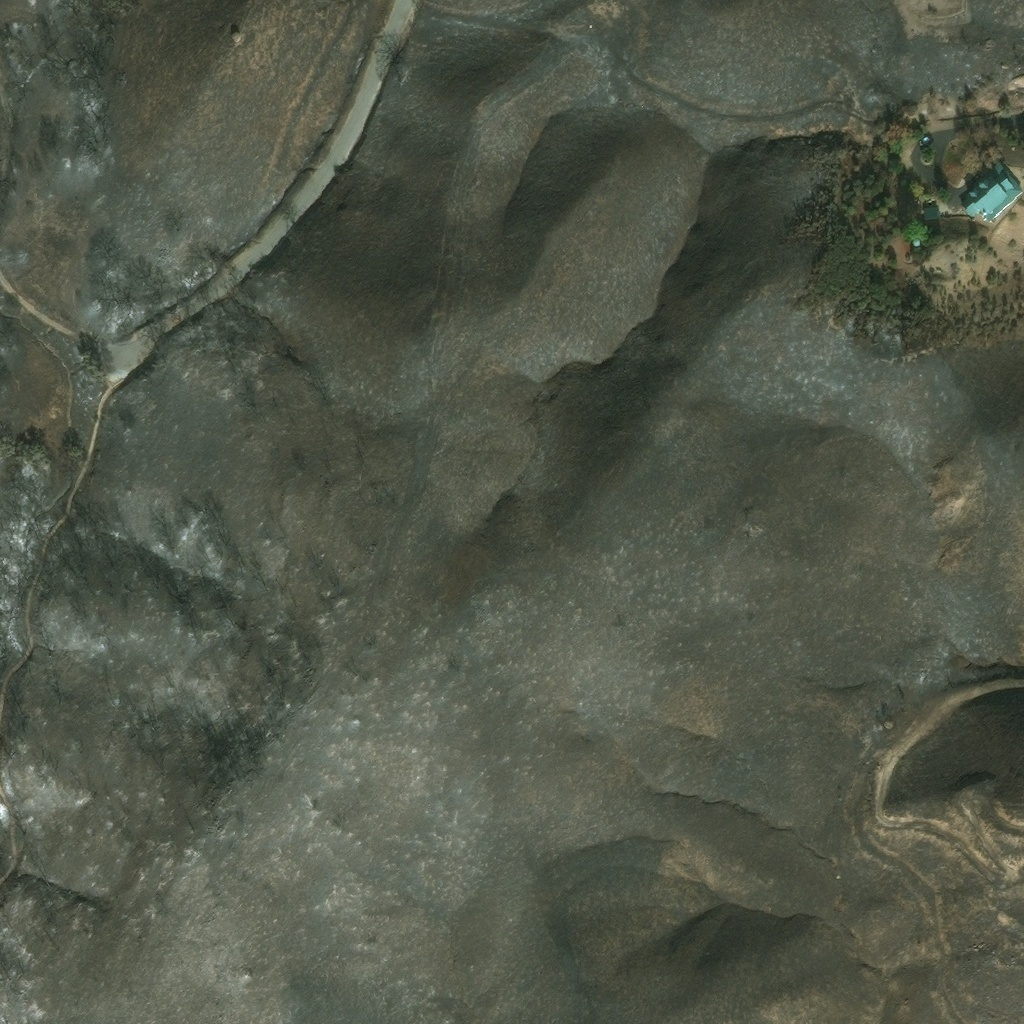0 no-damage: (959, 159, 1022, 222), (921, 205, 938, 220), (910, 236, 921, 247)
3 destroyed: (1005, 93, 1020, 113)
